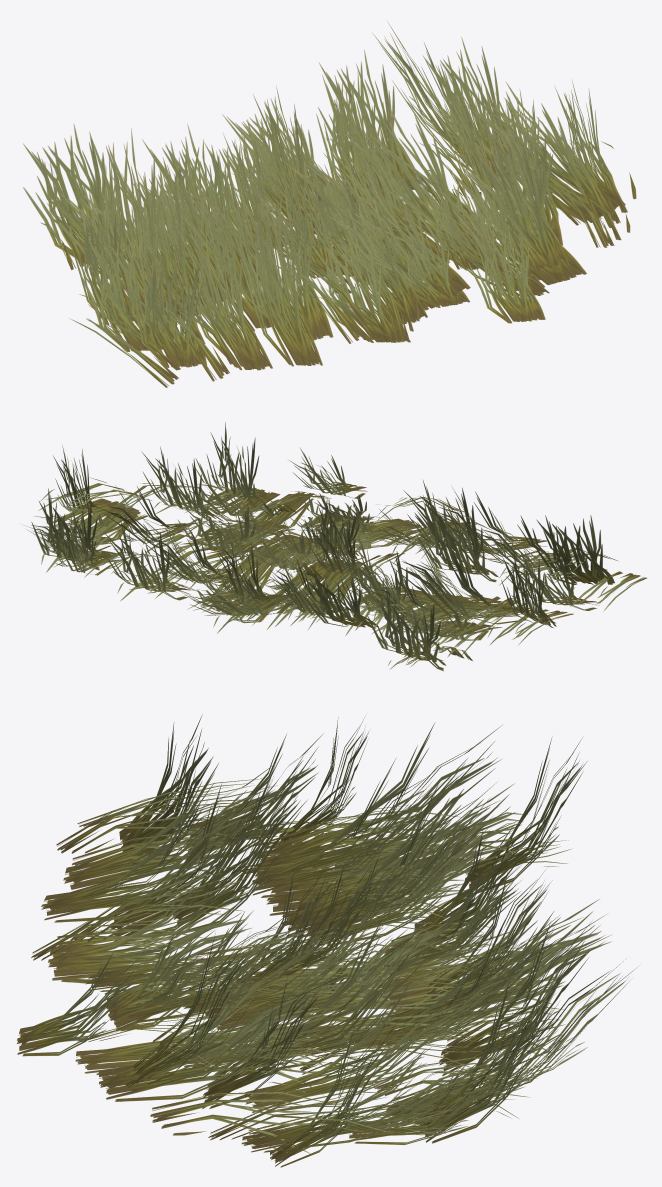
File: grass_chunk.gltf
The picture shows the model from 3 angles, top to bottom: view 1: azimuth 30°, elevation 25°; view 2: azimuth 150°, elevation 25°; view 3: azimuth 270°, elevation 25°; orthographic projection. The views are drawn at different scales.
Visible parts, largest first — view 1: Grass_High_122, Grass_Med_205, Grass_Med_1, Grass_High_41, Grass_Med_4, Grass_Med_181, Grass_High_62, Grass_Med_64, Grass_High_2, Grass_High_47, Grass_High_20, Grass_Med_142 (+44 smaller); view 2: Grass_Med_4, Grass_High_2, Grass_High_47, Grass_High_23, Grass_Med_184, Grass_Med_205, Grass_Med_226, Grass_High_122, Grass_Med_124, Grass_High_200, Grass_Med_202, Grass_Med_64 (+42 smaller); view 3: Grass_Med_4, Grass_High_200, Grass_Med_61, Grass_Med_1, Grass_Med_64, Grass_High_182, Grass_Med_205, Grass_High_41, Grass_Med_145, Grass_High_101, Grass_High_62, Grass_Med_22 (+49 smaller).
Part boxes in pixels (left/top/right/bottom): Grass_High_122: left=343, top=107, right=495, bottom=260; Grass_Med_205: left=466, top=81, right=625, bottom=225; Grass_Med_1: left=175, top=219, right=272, bottom=370; Grass_High_41: left=239, top=206, right=322, bottom=366; Grass_Med_4: left=84, top=128, right=172, bottom=316; Grass_Med_181: left=473, top=132, right=570, bottom=280; Grass_High_62: left=235, top=185, right=333, bottom=340; Grass_Med_64: left=142, top=124, right=260, bottom=290; Grass_High_2: left=130, top=249, right=206, bottom=367; Grass_High_47: left=23, top=123, right=128, bottom=264; Grass_High_20: left=80, top=234, right=172, bottom=351; Grass_Med_142: left=329, top=189, right=470, bottom=310; Grass_Med_4: left=383, top=540, right=530, bottom=629; Grass_High_2: left=534, top=515, right=614, bottom=584; Grass_High_47: left=367, top=586, right=446, bottom=671; Grass_High_23: left=416, top=499, right=498, bottom=582; Grass_Med_184: left=103, top=519, right=196, bottom=601; Grass_Med_205: left=34, top=494, right=148, bottom=548; Grass_Med_226: left=31, top=488, right=106, bottom=572; Grass_High_122: left=177, top=486, right=264, bottom=563; Grass_Med_124: left=232, top=560, right=371, bottom=630; Grass_High_200: left=180, top=458, right=280, bottom=521; Grass_Med_202: left=141, top=446, right=230, bottom=522; Grass_Med_64: left=333, top=535, right=440, bottom=614; Grass_Med_4: left=255, top=723, right=502, bottom=884; Grass_High_200: left=99, top=961, right=320, bottom=1101; Grass_Med_61: left=48, top=884, right=251, bottom=985; Grass_Med_1: left=63, top=763, right=280, bottom=892; Grass_Med_64: left=282, top=782, right=498, bottom=937; Grass_High_182: left=245, top=980, right=481, bottom=1112; Grass_Med_205: left=241, top=1047, right=505, bottom=1152; Grass_High_41: left=41, top=787, right=258, bottom=922; Grass_Med_145: left=385, top=899, right=611, bottom=1020; Grass_High_101: left=205, top=900, right=456, bottom=1034; Grass_High_62: left=110, top=779, right=269, bottom=941; Grass_Med_22: left=266, top=814, right=523, bottom=916.
Bounding box in the file's own units: 2.83 × 0.6699 × 2.03.
1 material, 1 textured.
